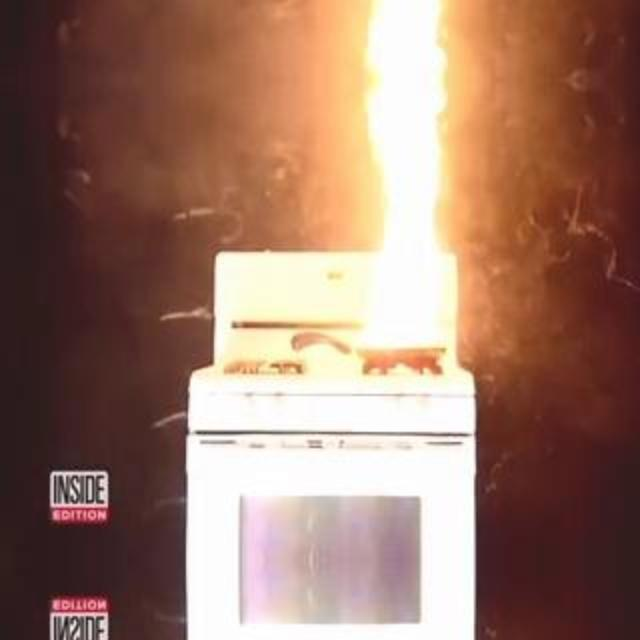smoke: (356, 0, 450, 353)
